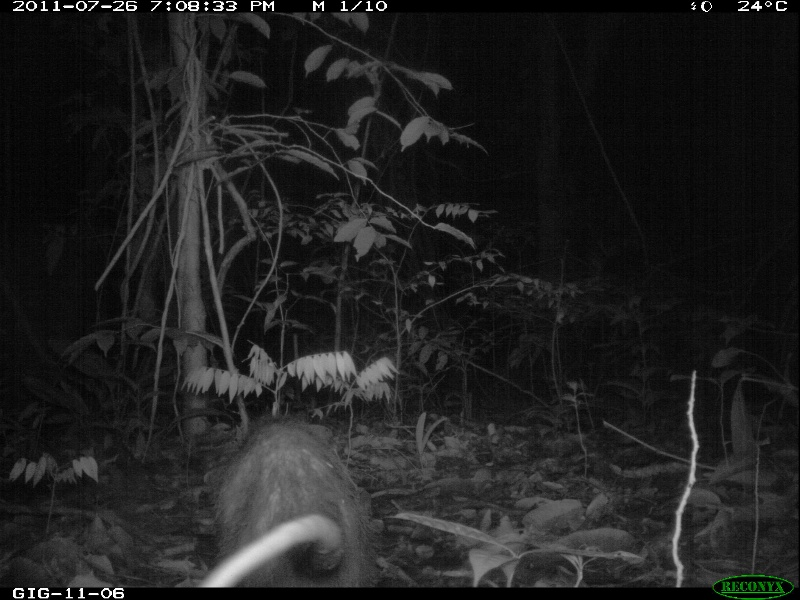opossum: (205, 416, 381, 586)
